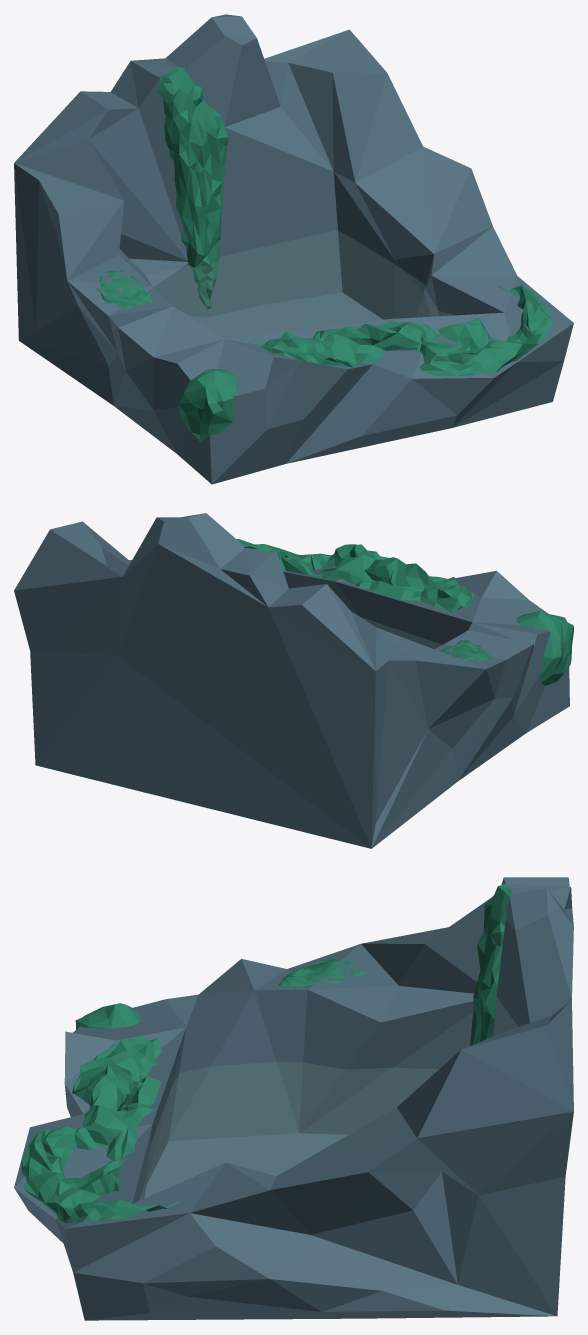
Rendered from 34_bontamgo_3.fbx.
The picture shows the model from 3 angles, top to bottom: view 1: azimuth 30°, elevation 25°; view 2: azimuth 150°, elevation 25°; view 3: azimuth 270°, elevation 25°; orthographic projection. The views are drawn at different scales.
Parts seen in each view (by area): view 1: 34_bontamgo_3, 34_bontamgo_3_2, 34_water_plane; view 2: 34_bontamgo_3, 34_bontamgo_3_2; view 3: 34_bontamgo_3, 34_water_plane, 34_bontamgo_3_2.
Boxes of the visible parts, x1,y1,x2,y2 form: 34_bontamgo_3: (14,14,573,484); 34_bontamgo_3_2: (95,67,552,442); 34_water_plane: (146,230,450,338); 34_bontamgo_3: (14,513,569,848); 34_bontamgo_3_2: (236,539,573,685); 34_bontamgo_3: (14,877,573,1320); 34_water_plane: (140,1062,437,1199); 34_bontamgo_3_2: (21,883,512,1222).
Bounding box in the file's own units: 907 × 616 × 889.
